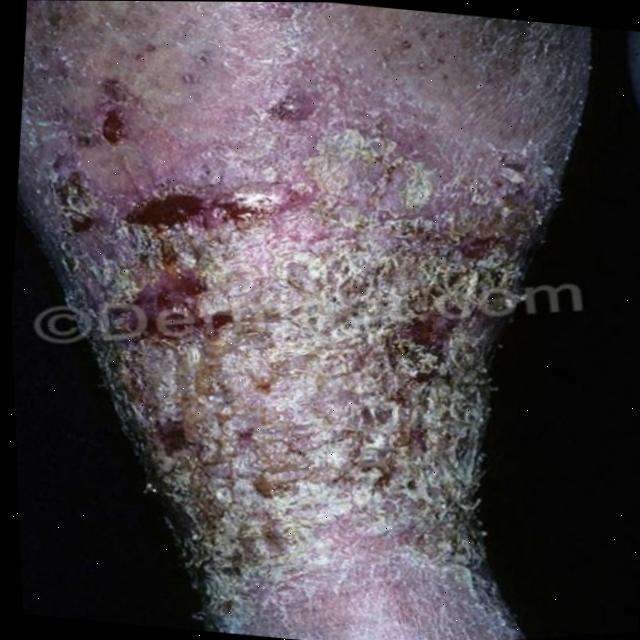Eczema: (75, 84, 498, 640)
